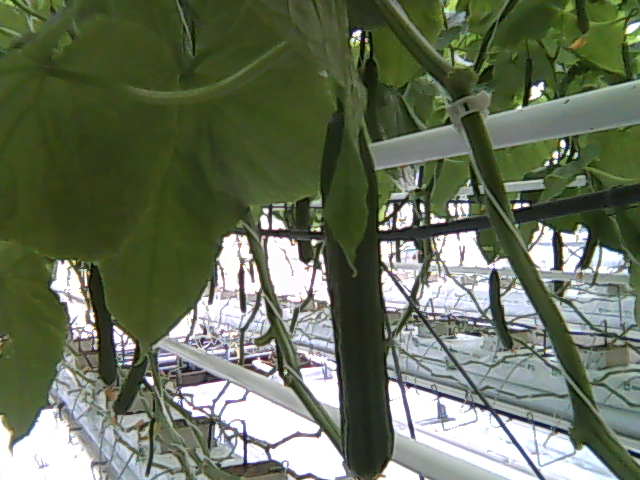concombre: (317, 105, 398, 480)
